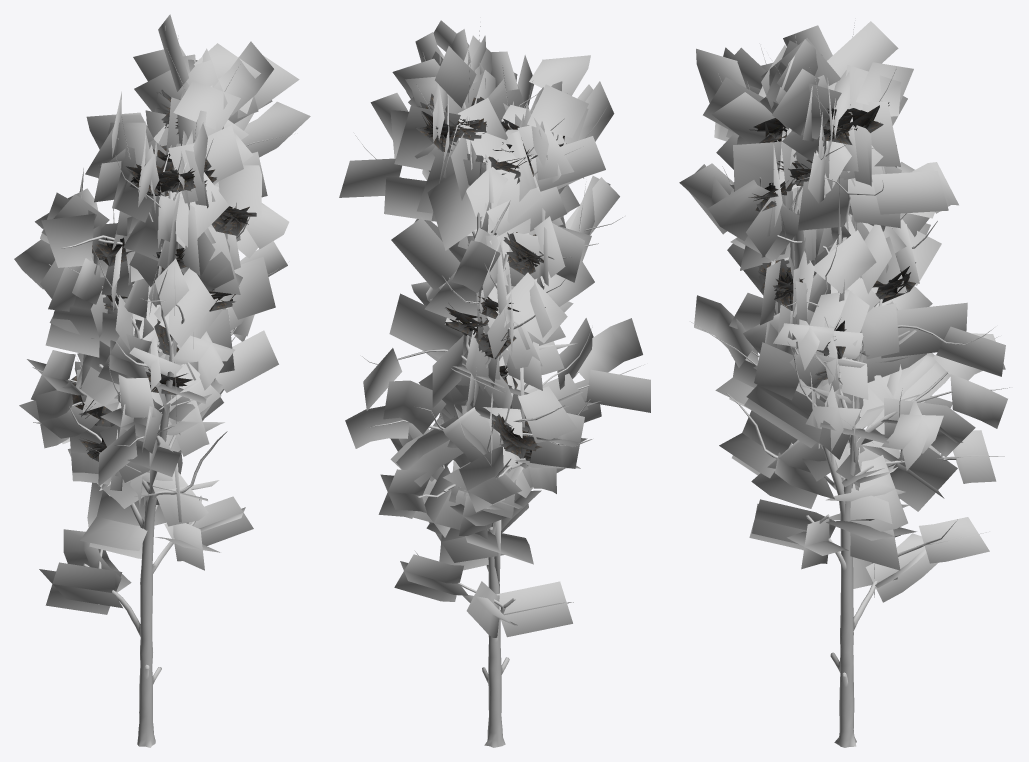
The model's file is Old_Horror_Tree10023.fbx.
3 views of the same model, side by side, from view 1: azimuth 30°, elevation 25°; view 2: azimuth 150°, elevation 25°; view 3: azimuth 270°, elevation 25° (orthographic). The views are drawn at different scales.
Parts seen in each view (by area): view 1: Old_Horror_Tree10023_Branches_08, Old_Horror_Tree10023_diffus, Old_Horror_Tree10023_RiverBirchBark, Old_Horror_Tree10023_IMG_20160420_16230723; view 2: Old_Horror_Tree10023_Branches_08, Old_Horror_Tree10023_diffus, Old_Horror_Tree10023_RiverBirchBark, Old_Horror_Tree10023_IMG_20160420_16230723; view 3: Old_Horror_Tree10023_Branches_08, Old_Horror_Tree10023_RiverBirchBark, Old_Horror_Tree10023_diffus, Old_Horror_Tree10023_IMG_20160420_16230723.
Boxes of the visible parts, x1=… form: Old_Horror_Tree10023_Branches_08: x1=14, y1=14, x2=310, y2=614; Old_Horror_Tree10023_diffus: x1=71, y1=89, x2=256, y2=461; Old_Horror_Tree10023_RiverBirchBark: x1=32, y1=35, x2=249, y2=747; Old_Horror_Tree10023_IMG_20160420_16230723: x1=68, y1=26, x2=291, y2=684; Old_Horror_Tree10023_Branches_08: x1=339, y1=20, x2=650, y2=637; Old_Horror_Tree10023_diffus: x1=416, y1=93, x2=566, y2=465; Old_Horror_Tree10023_RiverBirchBark: x1=416, y1=53, x2=598, y2=747; Old_Horror_Tree10023_IMG_20160420_16230723: x1=355, y1=26, x2=644, y2=683; Old_Horror_Tree10023_Branches_08: x1=679, y1=21, x2=1007, y2=602; Old_Horror_Tree10023_RiverBirchBark: x1=717, y1=35, x2=956, y2=747; Old_Horror_Tree10023_diffus: x1=730, y1=102, x2=915, y2=381; Old_Horror_Tree10023_IMG_20160420_16230723: x1=691, y1=25, x2=1009, y2=687.
Bounding box in the file's own units: 45.74 × 50.51 × 123.
